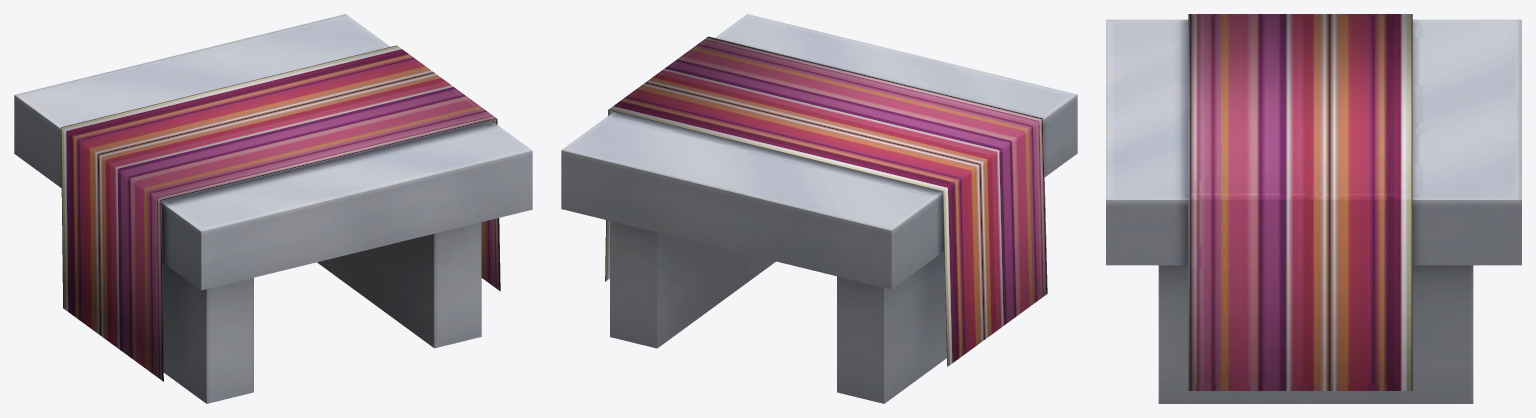
File: furni_0200610.FBX
3 views of the same model, side by side, from view 1: azimuth 30°, elevation 25°; view 2: azimuth 150°, elevation 25°; view 3: azimuth 270°, elevation 25° (orthographic). The views are drawn at different scales.
Parts seen in each view (by area): view 1: furni_0200610; view 2: furni_0200610; view 3: furni_0200610.
Boxes of the visible parts, x1,y1,x2,y2 form: furni_0200610: (14,14,532,403); furni_0200610: (561,14,1077,403); furni_0200610: (1106,14,1521,403).
Bounding box in the file's own units: 81.37 × 45.92 × 77.46.
1 material, 1 textured.
